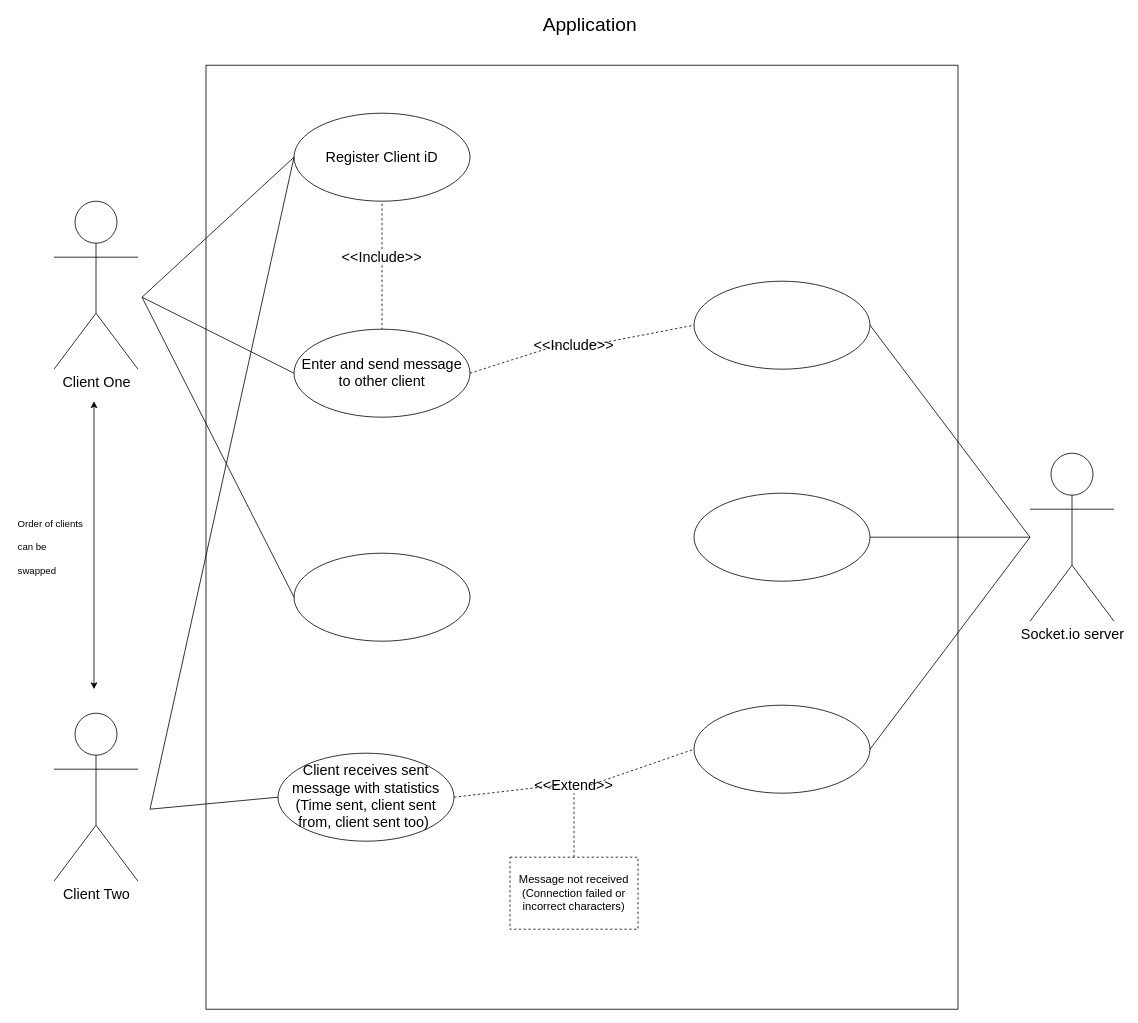
This 1138x1023 diagram has some shape labels left out. The shapes that lost their labels are listed below. From the top down, each one's box as (x1, y1, x2, y2) in pixels, then its label:
(693, 280, 870, 369): Server receives message
(693, 492, 870, 581): Process message (Reads and stores statistics)
(293, 552, 470, 641): Confirmation of message sent (send icon or alert)
(693, 704, 870, 793): Sends message to recipient client
